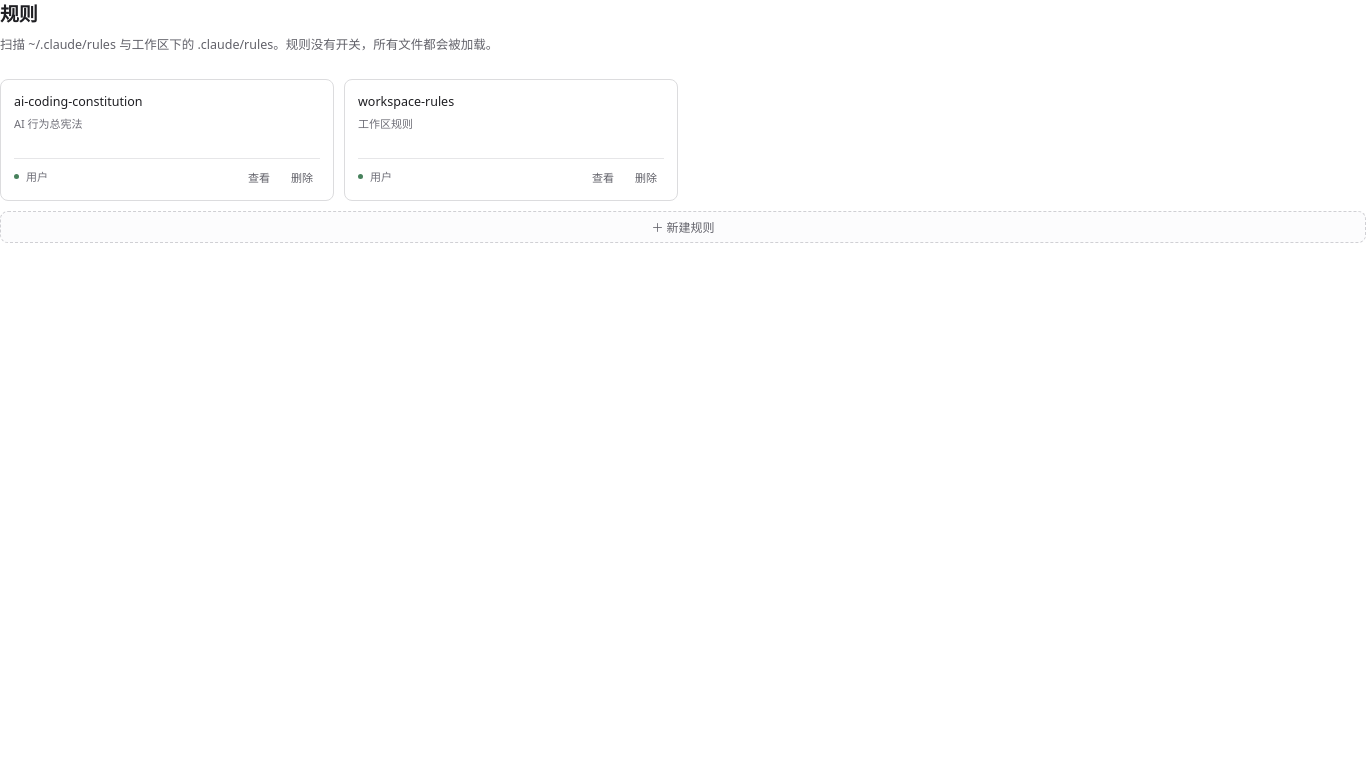
Test: 规则分区 › 点查看打开编辑器并加载正文
What coordinates should you click on to do the following:
click the button with class "mini" below "AI 行为总宪法"
I would click on:
 (259, 177)
Its box is [241,167,277,187].
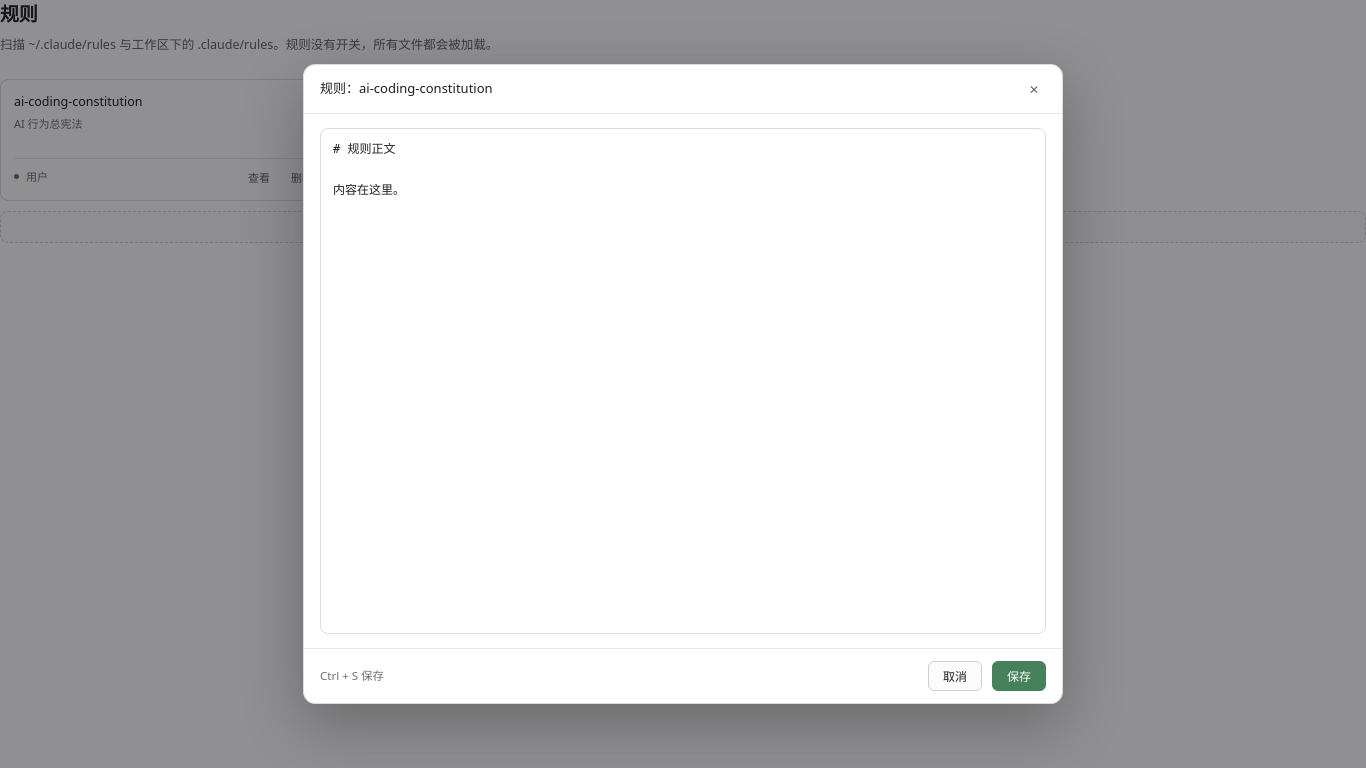
Expected: the text box is shown, [320,128,1046,634]
